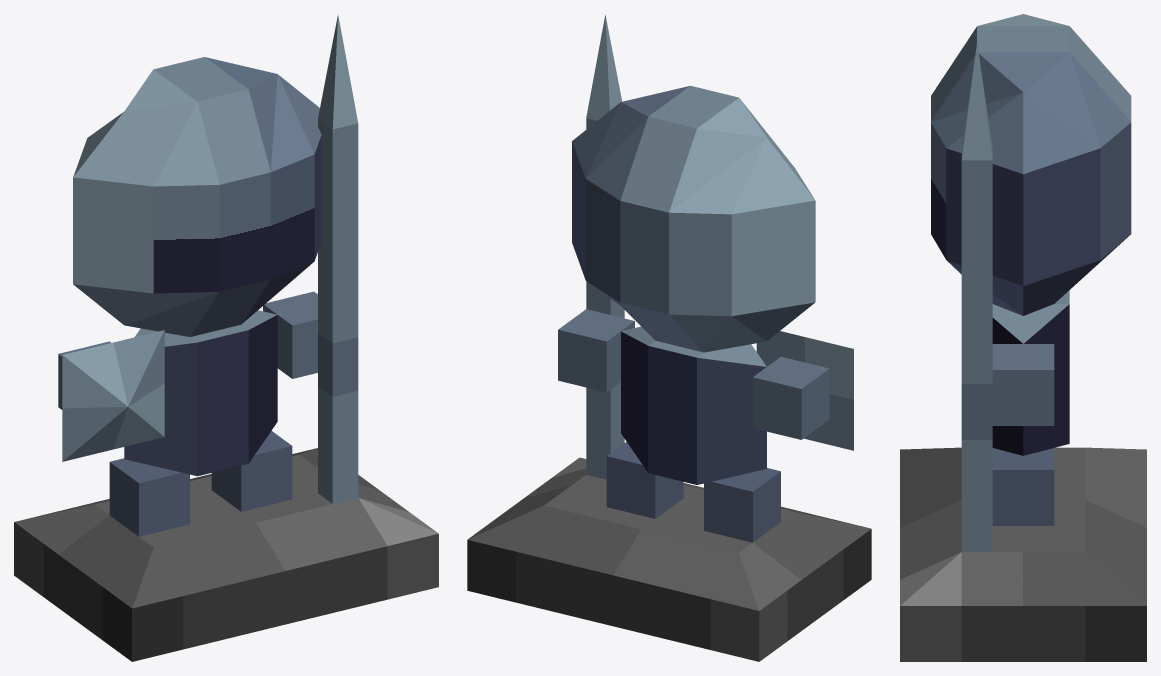
The model's file is statue_b.gltf.
3 renders of one model, left to right at view 1: azimuth 30°, elevation 25°; view 2: azimuth 150°, elevation 25°; view 3: azimuth 270°, elevation 25°, orthographic. The views are drawn at different scales.
Visible parts, largest first — view 1: statue_b; view 2: statue_b; view 3: statue_b.
Part boxes in pixels (x1,y1,x2,y2): statue_b: [14, 14, 438, 661]; statue_b: [467, 14, 871, 661]; statue_b: [900, 14, 1146, 661].
Size of the model in its own units: 0.8125 by 1.31 by 0.5.
